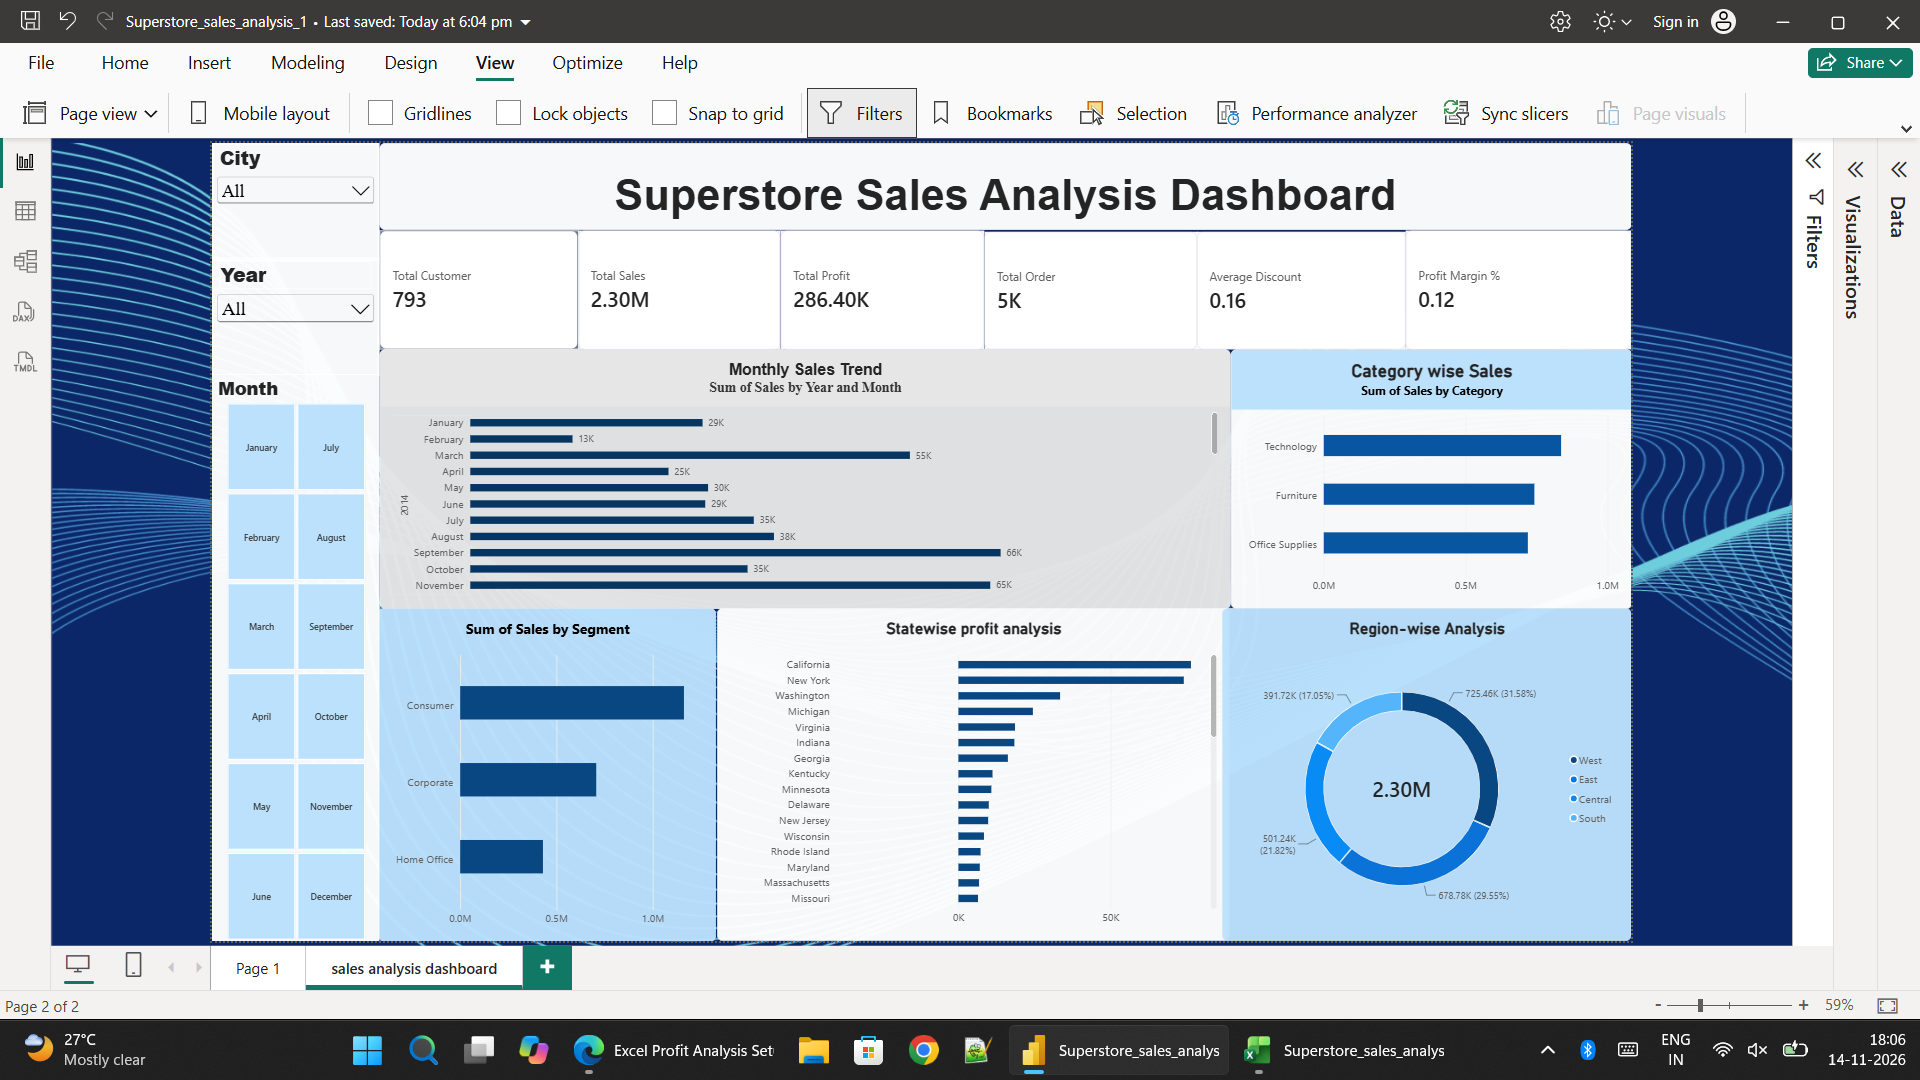

This screenshot's page, from the dashboard's own definition file:
{"tool":"powerbi","page":{"name":"sales analysis dashboard","canvas":[1920,1080],"ordinal":0},"visuals":[{"type":"textbox","box":[226.2,0,1693.8,117.6],"z":0},{"type":"cardVisual","fields":{"Data":["Solution_sales_Data_cleaning.Total Sales"]},"box":[495.8,117.6,273.3,161.1],"z":1000},{"type":"cardVisual","fields":{"Data":["Solution_sales_Data_cleaning.Total Profit"]},"box":[769.1,117.6,275.1,161.1],"z":2000},{"type":"cardVisual","fields":{"Data":["Solution_sales_Data_cleaning.Total Order"]},"box":[1044.2,119.4,287.7,159.3],"z":3000},{"type":"cardVisual","fields":{"Data":["Solution_sales_Data_cleaning.Total Customer"]},"box":[226.2,117.6,269.6,161.1],"z":4000},{"type":"clusteredBarChart","title":"Category wise Sales","fields":{"Category":["Solution_sales_Data_cleaning.Category"],"Y":["Sum(Solution_sales_Data_cleaning.Sales)"]},"box":[1377.2,278.7,542.9,351.1],"z":5000},{"type":"clusteredBarChart","title":"Statewise profit analysis","fields":{"Category":["Solution_sales_Data_cleaning.State"],"Y":["Sum(Solution_sales_Data_cleaning.Profit)"]},"box":[682.2,629.8,693.1,450.6],"z":6000},{"type":"donutChart","title":"Region-wise Analysis","fields":{"Category":["Solution_sales_Data_cleaning.Region"],"Y":["Sum(Solution_sales_Data_cleaning.Sales)"]},"box":[1366.3,629.8,553.8,450.6],"z":7000},{"type":"clusteredBarChart","title":"Monthly Sales Trend","fields":{"Category":["Solution_sales_Data_cleaning.Order Date.Variation.Date Hierarchy.Year","Solution_sales_Data_cleaning.Order Date.Variation.Date Hierarchy.Month"],"Y":["Sum(Solution_sales_Data_cleaning.Sales)"]},"box":[226.2,278.7,1150.9,351.1],"z":8000},{"type":"cardVisual","fields":{"Data":["Solution_sales_Data_cleaning.Average Discount"]},"box":[1331.9,119.4,282.3,159.3],"z":9000},{"type":"cardVisual","fields":{"Data":["Solution_sales_Data_cleaning.Profit Margin %"]},"box":[1614.2,117.6,305.8,161.1],"z":10000},{"type":"clusteredBarChart","fields":{"Category":["Solution_sales_Data_cleaning.Segment"],"Y":["Sum(Solution_sales_Data_cleaning.Sales)"]},"box":[225.6,629.1,456.7,451.2],"z":11000},{"type":"slicer","fields":{"Values":["Solution_sales_Data_cleaning.City"]},"box":[0,0,226.2,157.4],"z":12000},{"type":"slicer","fields":{"Values":["Solution_sales_Data_cleaning.Order Date.Variation.Date Hierarchy.Year"]},"box":[0,157.4,226.2,157.4],"z":13000},{"type":"slicer","fields":{"Values":["Solution_sales_Data_cleaning.Order Date.Variation.Date Hierarchy.Month"]},"box":[0,314.9,226.2,765.5],"z":14000}]}

Visuals, with their boxes on the page's 1920x1080 design canvas (x1, y1, x2, y2). These are canvas units, not pixel positions in the 1920x1080 screenshot, which may show the page scaled, cropped or inside an application window:
textbox: BBox(226, 0, 1920, 118)
cardVisual - Solution_sales_Data_cleaning.Total Sales: BBox(496, 118, 769, 279)
cardVisual - Solution_sales_Data_cleaning.Total Profit: BBox(769, 118, 1044, 279)
cardVisual - Solution_sales_Data_cleaning.Total Order: BBox(1044, 119, 1332, 279)
cardVisual - Solution_sales_Data_cleaning.Total Customer: BBox(226, 118, 496, 279)
"Category wise Sales" clusteredBarChart: BBox(1377, 279, 1920, 630)
"Statewise profit analysis" clusteredBarChart: BBox(682, 630, 1375, 1080)
"Region-wise Analysis" donutChart: BBox(1366, 630, 1920, 1080)
"Monthly Sales Trend" clusteredBarChart: BBox(226, 279, 1377, 630)
cardVisual - Solution_sales_Data_cleaning.Average Discount: BBox(1332, 119, 1614, 279)
cardVisual - Solution_sales_Data_cleaning.Profit Margin %: BBox(1614, 118, 1920, 279)
clusteredBarChart - Solution_sales_Data_cleaning.Segment x Sum(Solution_sales_Data_cleaning.Sales): BBox(226, 629, 682, 1080)
slicer - Solution_sales_Data_cleaning.City: BBox(0, 0, 226, 157)
slicer - Solution_sales_Data_cleaning.Order Date.Variation.Date Hierarchy.Year: BBox(0, 157, 226, 315)
slicer - Solution_sales_Data_cleaning.Order Date.Variation.Date Hierarchy.Month: BBox(0, 315, 226, 1080)
